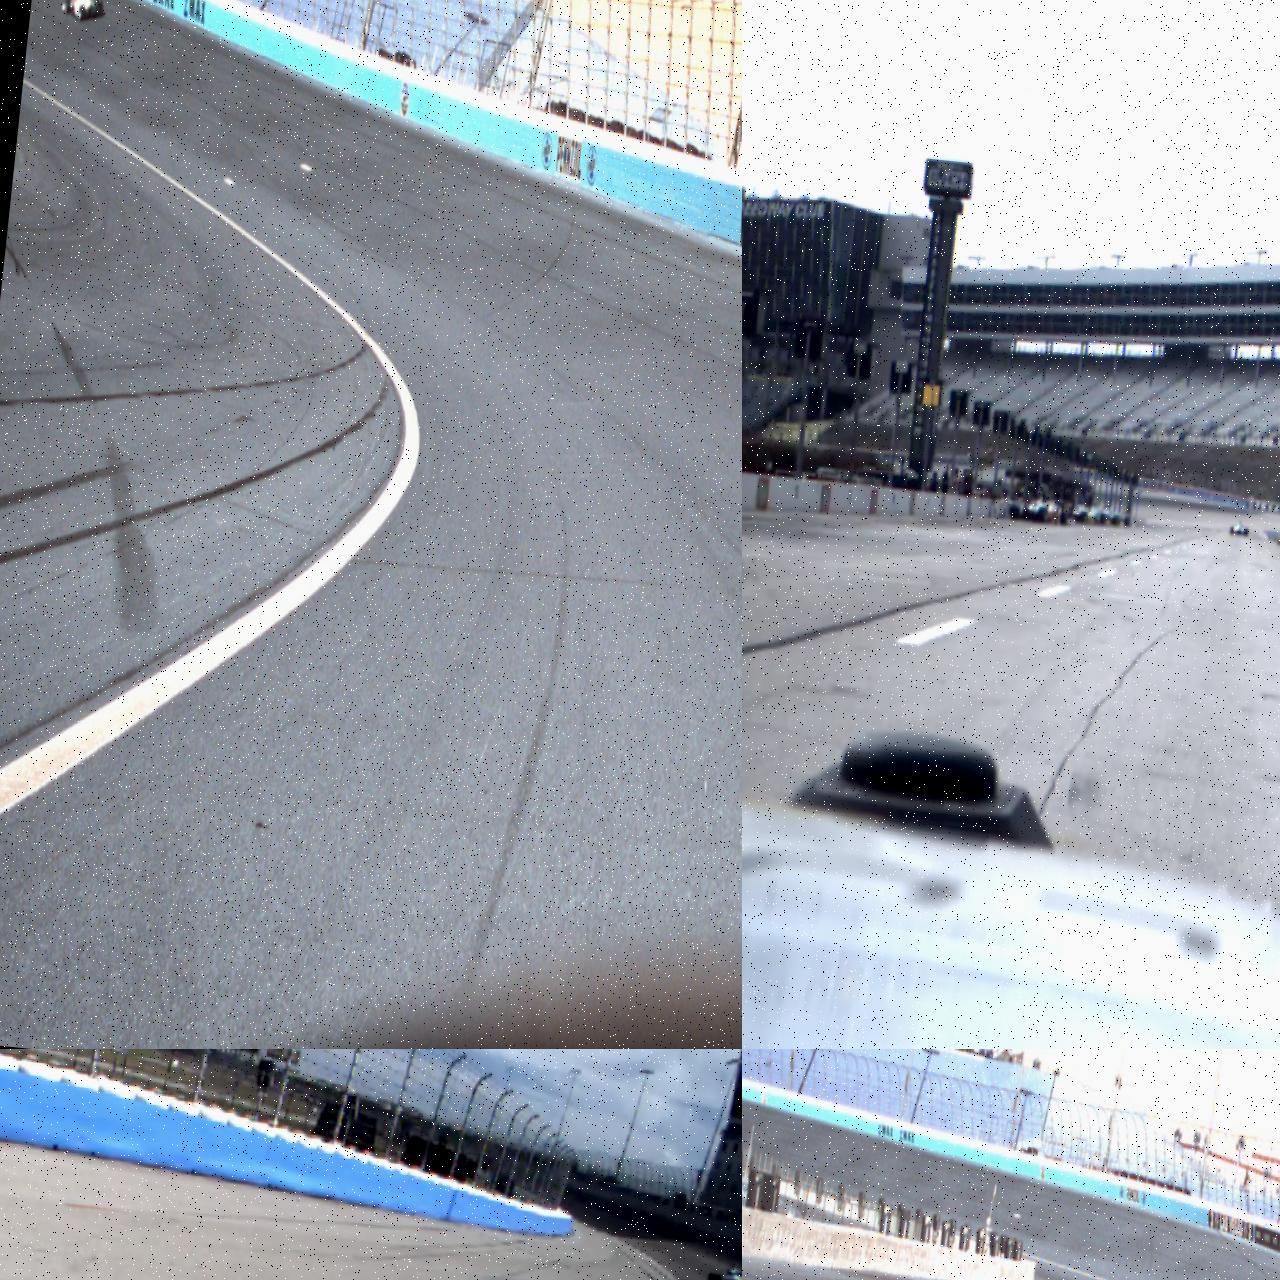AV: (1008, 490, 1070, 526), (60, 0, 105, 23), (706, 1261, 742, 1280), (1228, 520, 1250, 538)
Wheel: (1039, 506, 1049, 524), (1010, 505, 1020, 520), (1061, 509, 1069, 525), (706, 1272, 722, 1280), (77, 6, 86, 21), (1078, 511, 1088, 524), (64, 0, 72, 14), (98, 0, 104, 16), (1099, 512, 1107, 525), (1111, 515, 1118, 527), (1228, 526, 1234, 537), (1244, 527, 1250, 537), (1124, 517, 1130, 526)
